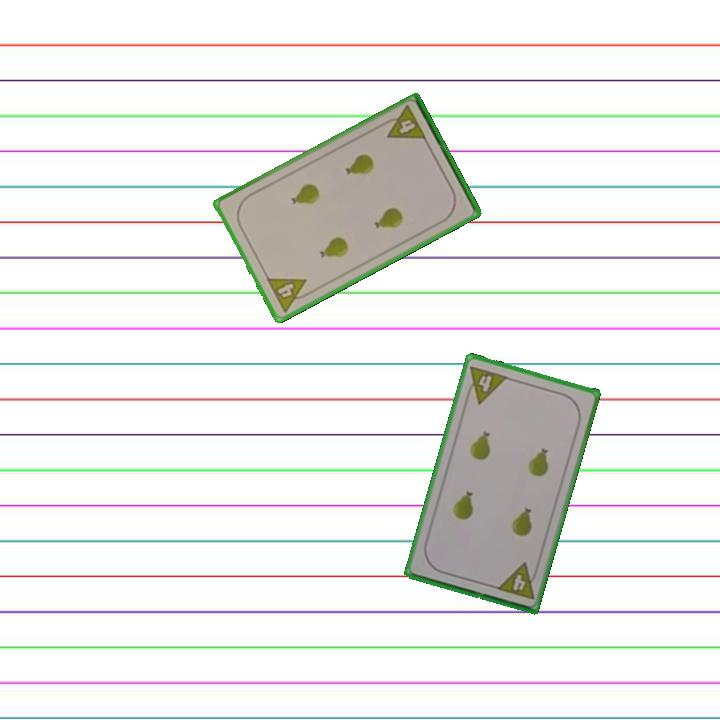4p: (461, 362, 510, 407), (263, 274, 315, 315), (378, 102, 429, 143), (493, 559, 541, 602)
